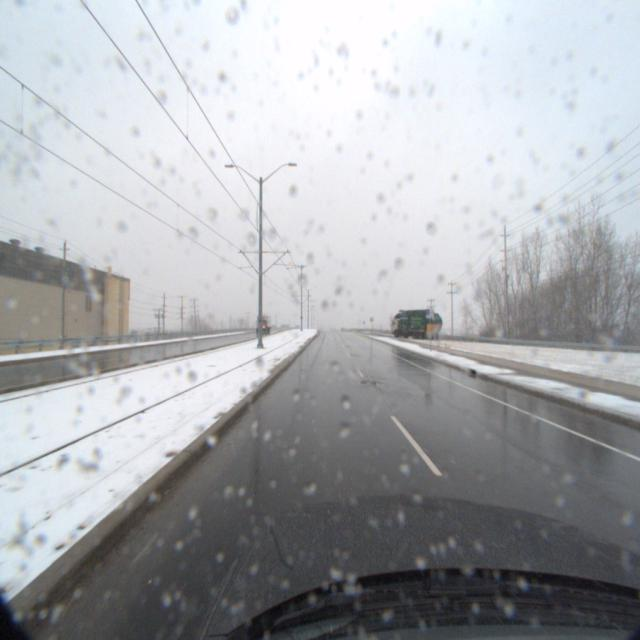Truck: (392, 312, 446, 342)
